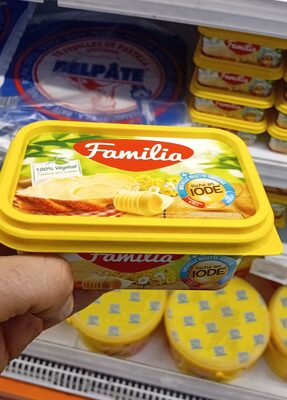Familia 200g: (14, 20, 273, 380)
